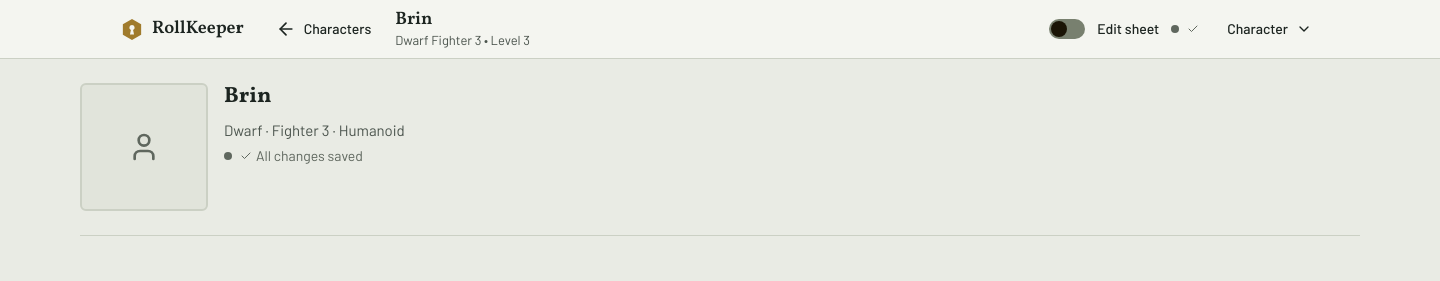
Test case: CharacterSheetHeader modes › edits the name and shows the notice while the switch is on
The width and height of the screenshot is (1440, 281).
Click the switch named "Edit sheet" at (1067,29), box [1049,19,1085,39]
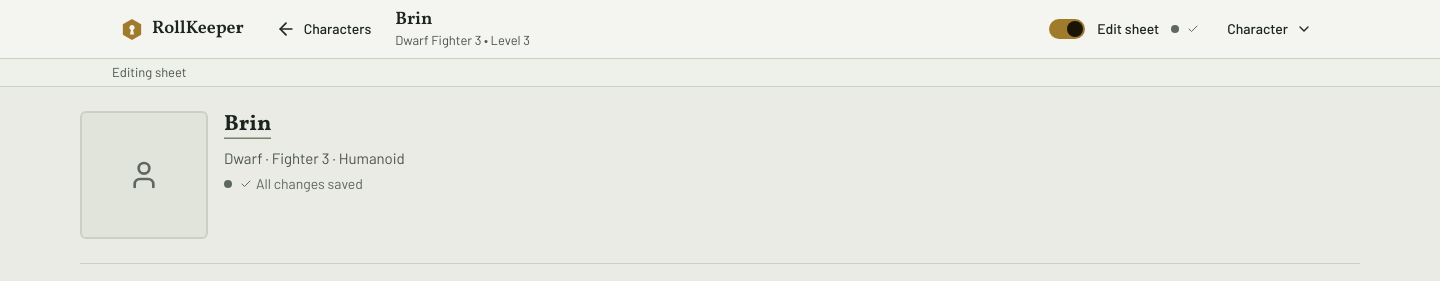
Expected: the field with placeholder "Thalia Vane" holds "Brin", [224,111,272,139]
Expected: the text "Editing sheet" is shown, [112,64,187,80]
Click the switch named "Edit sheet" at (1067,29), box [1049,19,1085,39]
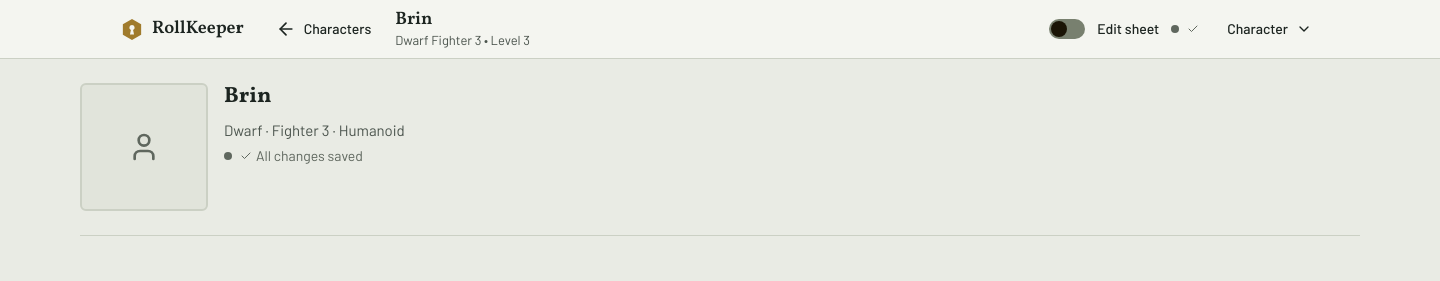
Expected: the text "Editing sheet" is gone
